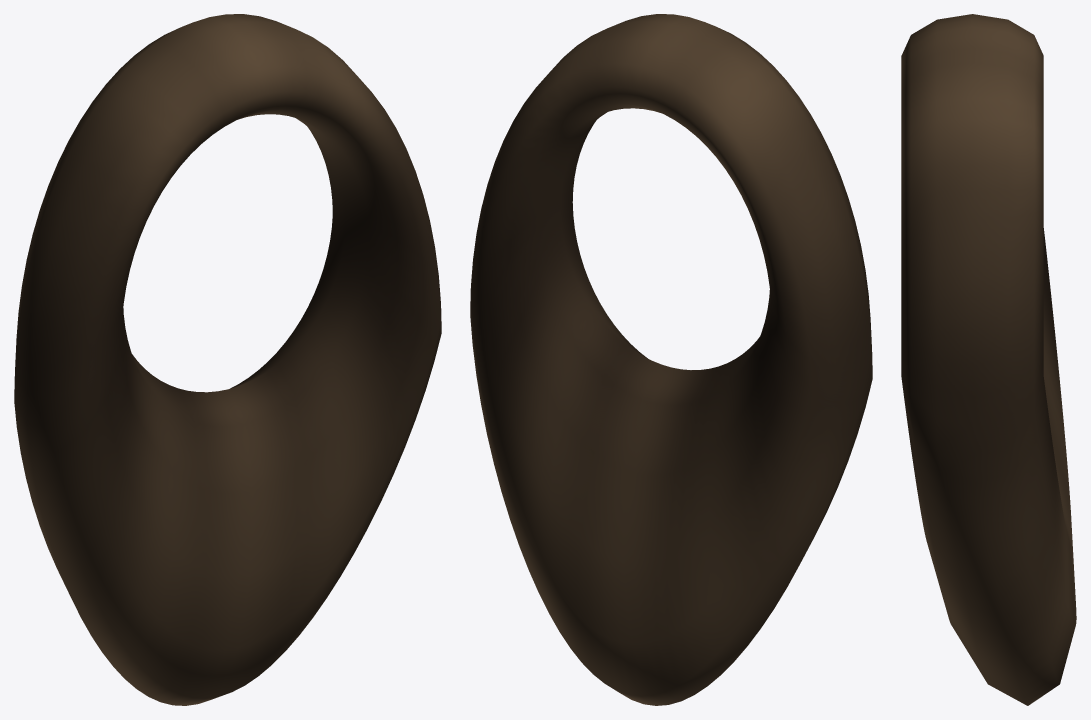
The picture shows the model from 3 angles, left to right: view 1: azimuth 30°, elevation 25°; view 2: azimuth 150°, elevation 25°; view 3: azimuth 270°, elevation 25°; orthographic projection. The views are drawn at different scales.
Visible parts, largest first — view 1: Female archery thumb ring | tapered horn shield; view 2: Female archery thumb ring | tapered horn shield; view 3: Female archery thumb ring | tapered horn shield.
Boxes of the visible parts, box(x1,y1,x2,y2) form: Female archery thumb ring | tapered horn shield: box(14, 14, 441, 705); Female archery thumb ring | tapered horn shield: box(470, 14, 872, 705); Female archery thumb ring | tapered horn shield: box(901, 14, 1076, 705).
Bounding box in the file's own units: 0.03 × 0.05 × 0.0118.
